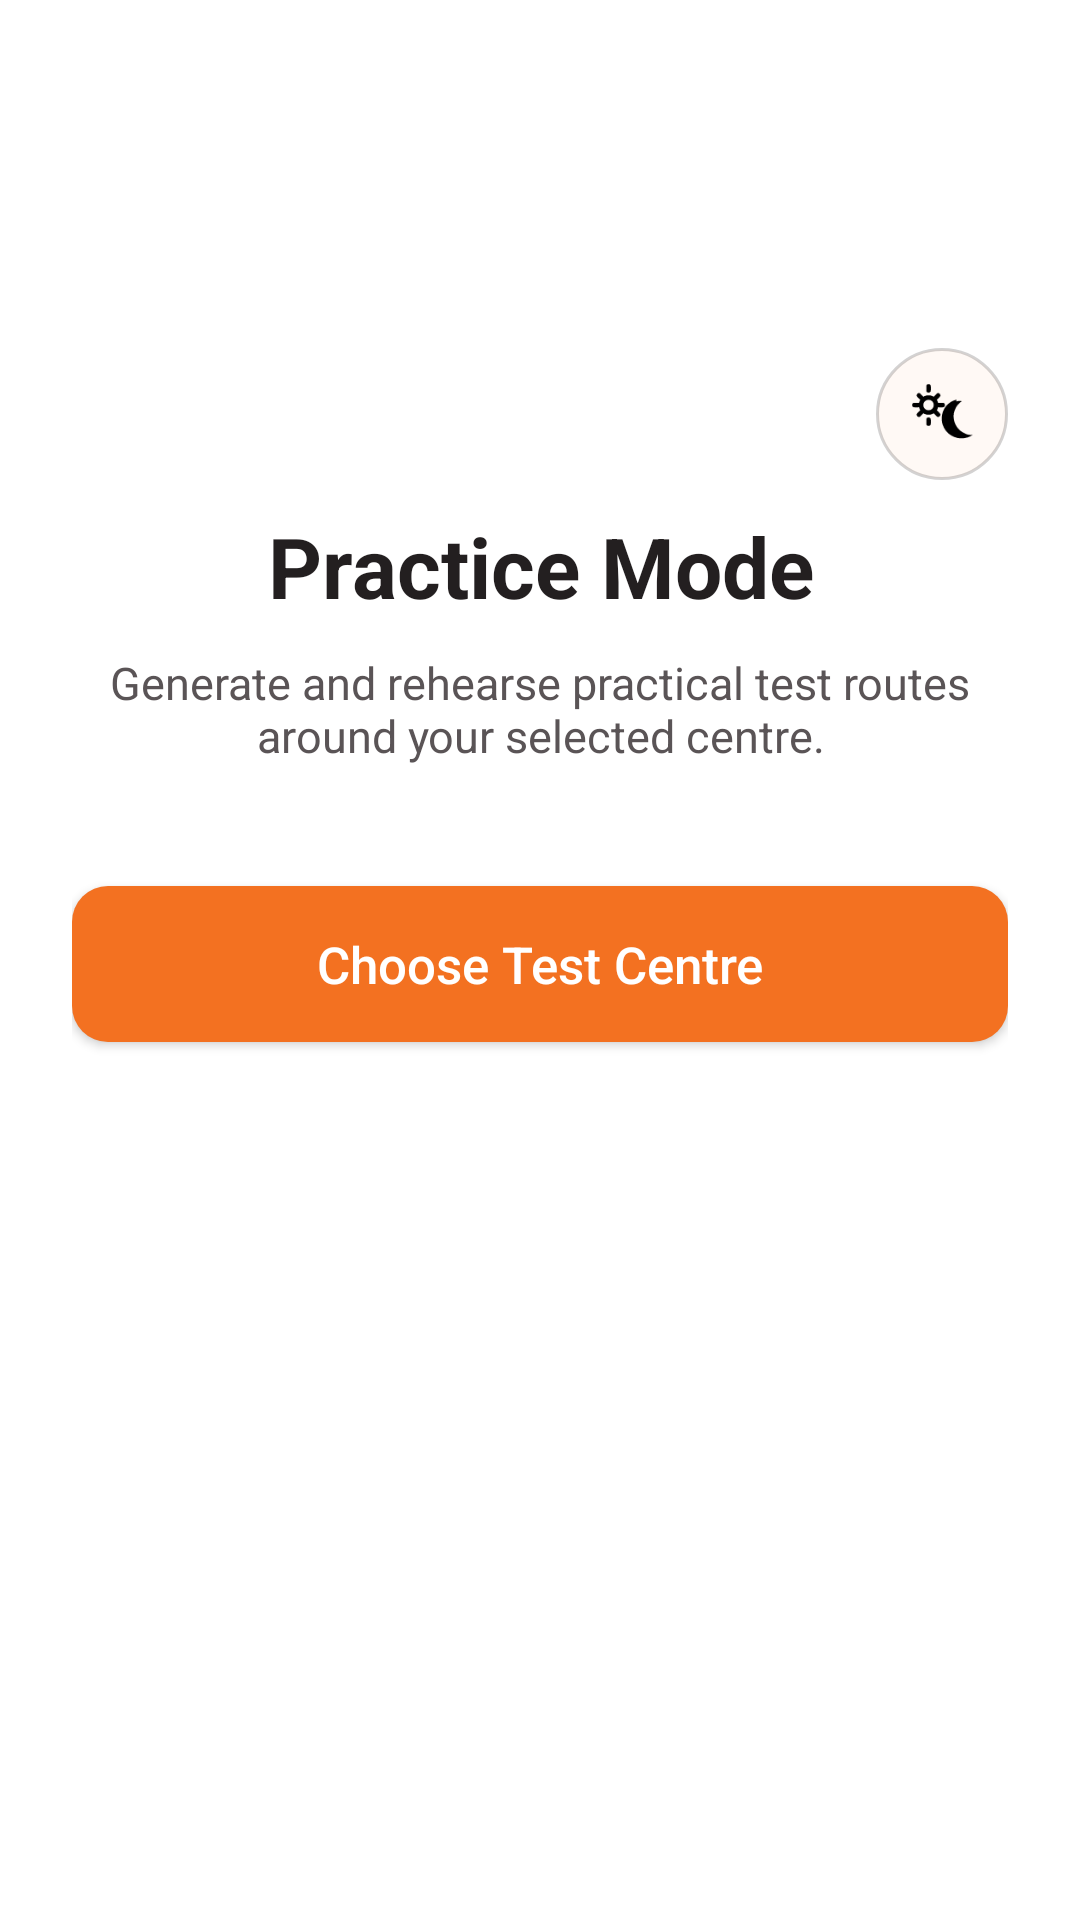

Icon bounding boxes for this 1080×1920 phone screenshot, format (x1, y1, x2, y2):
appearance auto: (876, 348, 1008, 480)
